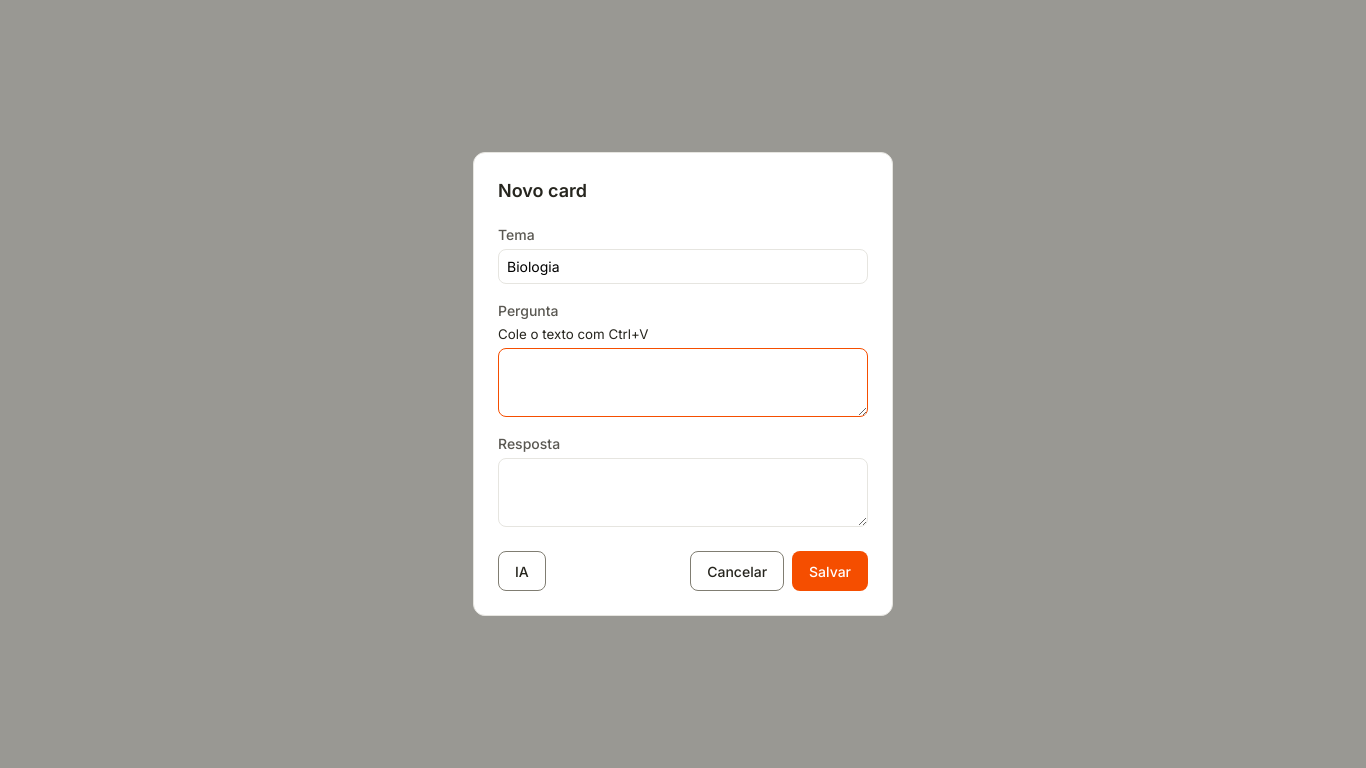
CardFormModal: botão IA (casos extremos) › se a geração da resposta lançar erro, mantém a pergunta nova, limpa a resposta antiga e libera o botão
The width and height of the screenshot is (1366, 768).
Type "pergunta antiga" into the text box labelled "Pergunta" at (683, 383), box [498,348,868,418]
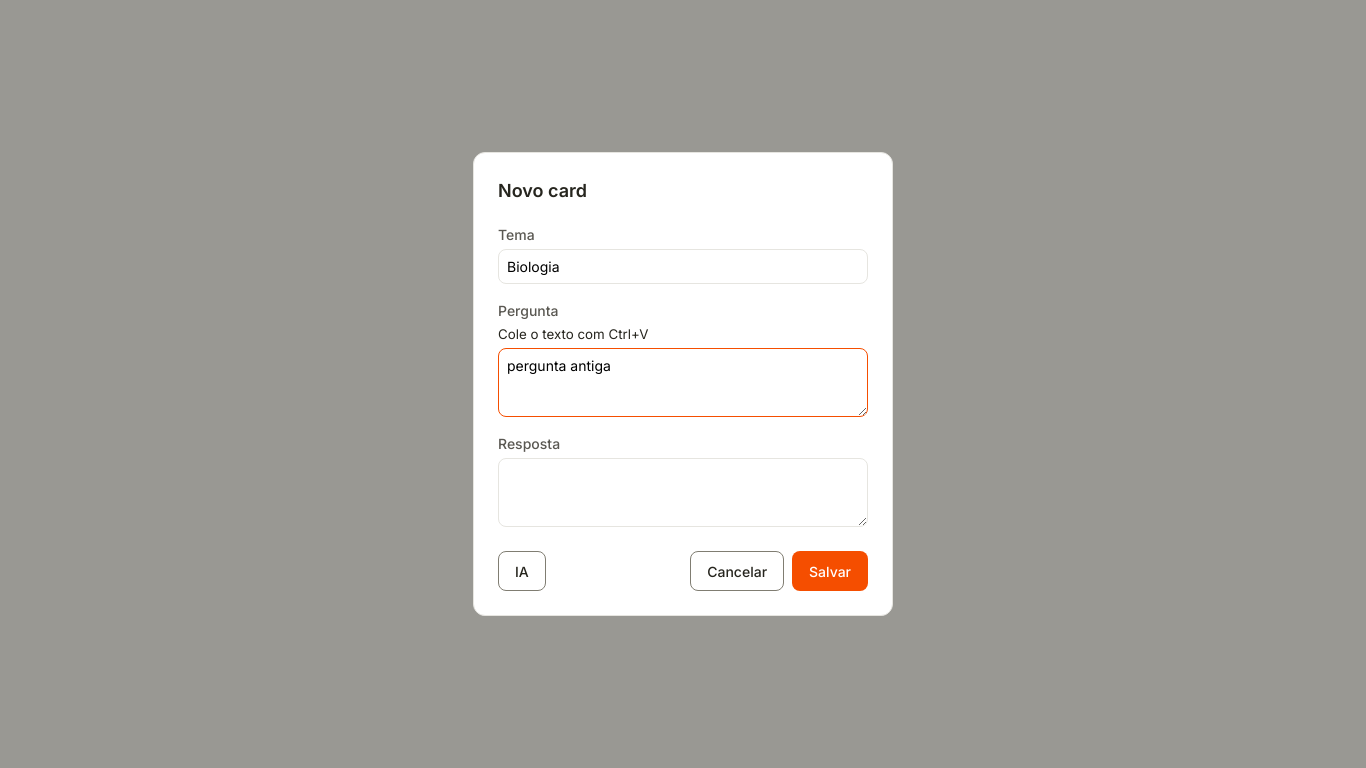
Type "resposta antiga" into the text box labelled "Resposta" at (683, 493), box [498,458,868,528]
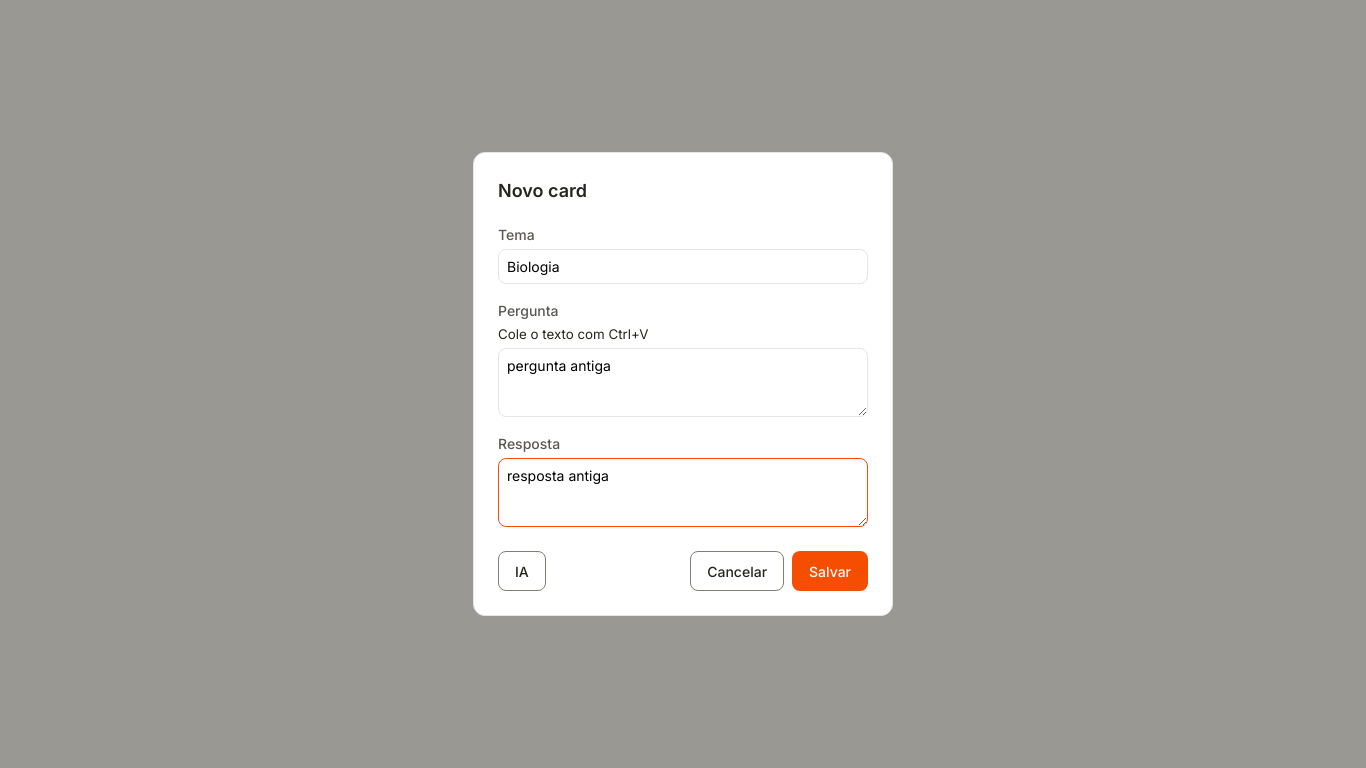
Click the button "IA" at (522, 572), box [498,552,546,592]
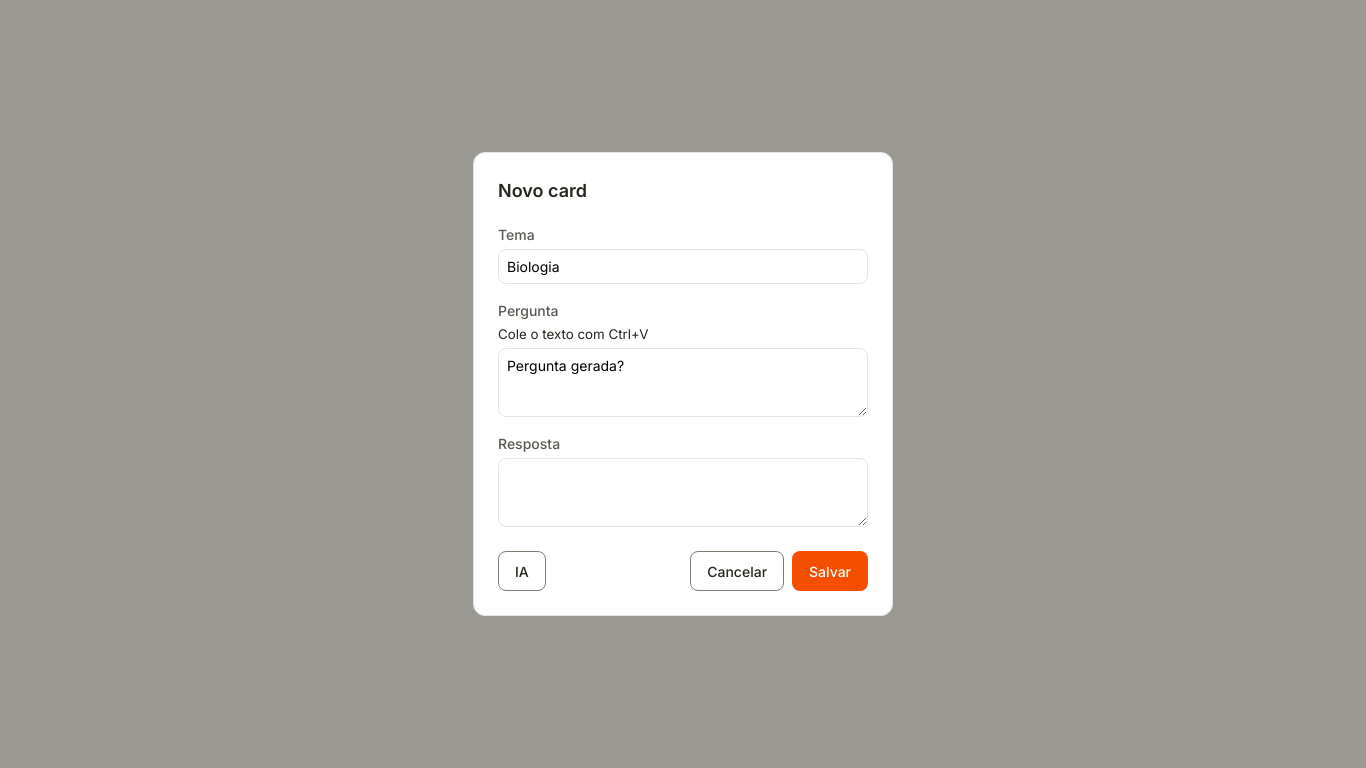
Expected: the text box labelled "Pergunta" holds "Pergunta gerada?", [498,348,868,418]
Expected: the text box labelled "Resposta" is empty, [498,458,868,528]
